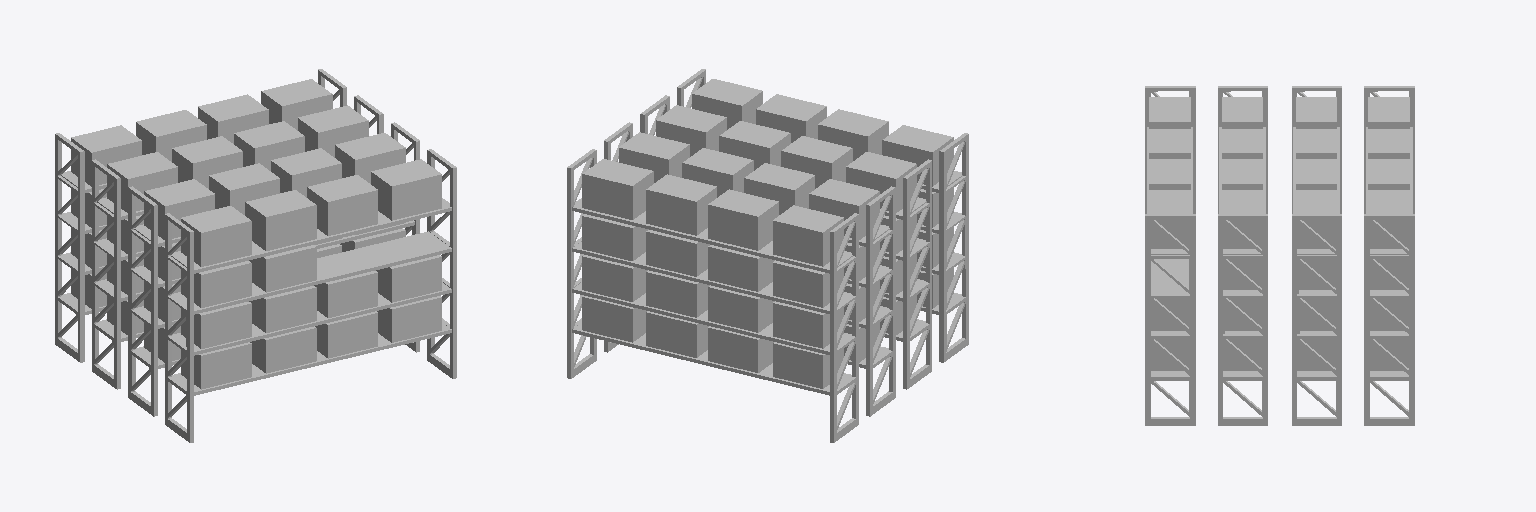
File: triangulate.obj
3 views of the same model, side by side, from view 1: azimuth 30°, elevation 25°; view 2: azimuth 150°, elevation 25°; view 3: azimuth 270°, elevation 25° (orthographic).
Visible parts, largest first — view 1: Cube.017_Cube.14245; view 2: Cube.017_Cube.14245; view 3: Cube.017_Cube.14245.
Boxes of the visible parts, box(x1,y1,x2,y2) form: Cube.017_Cube.14245: box(55, 69, 456, 442); Cube.017_Cube.14245: box(567, 69, 968, 442); Cube.017_Cube.14245: box(1145, 86, 1414, 425).
Bounding box in the file's own units: 3.48 × 2.63 × 3.05.